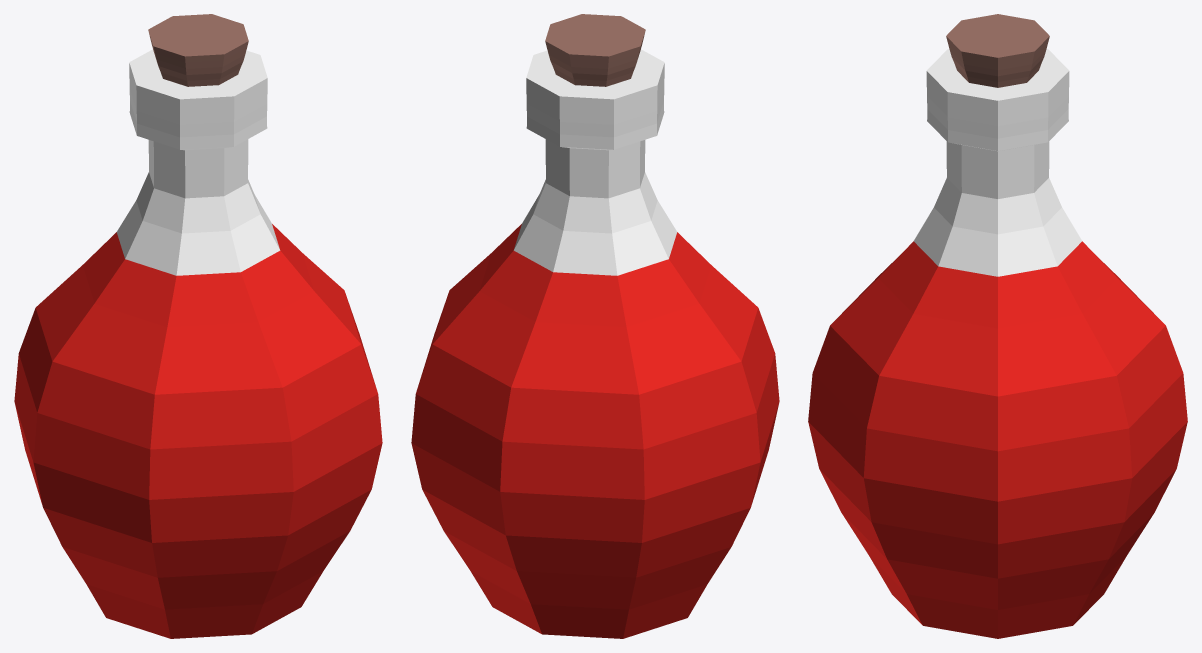
File: great_potion_red.fbx
3 renders of one model, left to right at view 1: azimuth 30°, elevation 25°; view 2: azimuth 150°, elevation 25°; view 3: azimuth 270°, elevation 25°, orthographic.
Visible parts, largest first — view 1: redpotion3; view 2: redpotion3; view 3: redpotion3.
Boxes of the visible parts, x1,y1,x2,y2 form: redpotion3: (14,14,382,638); redpotion3: (411,14,779,638); redpotion3: (808,14,1187,638).
Bounding box in the file's own units: 60.87 × 98.72 × 60.87.
